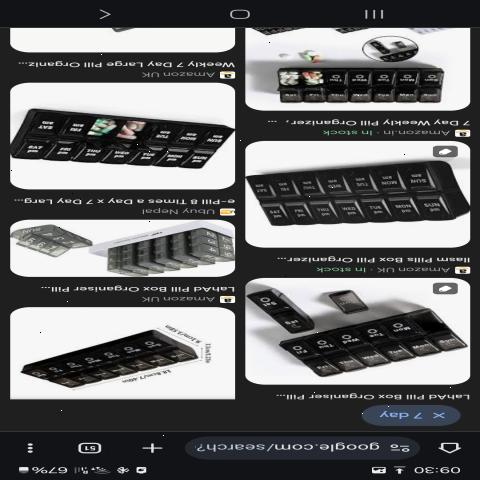PillBox: (240, 150, 471, 236), (18, 314, 216, 403), (22, 99, 227, 173), (275, 304, 471, 381), (255, 58, 458, 112)
